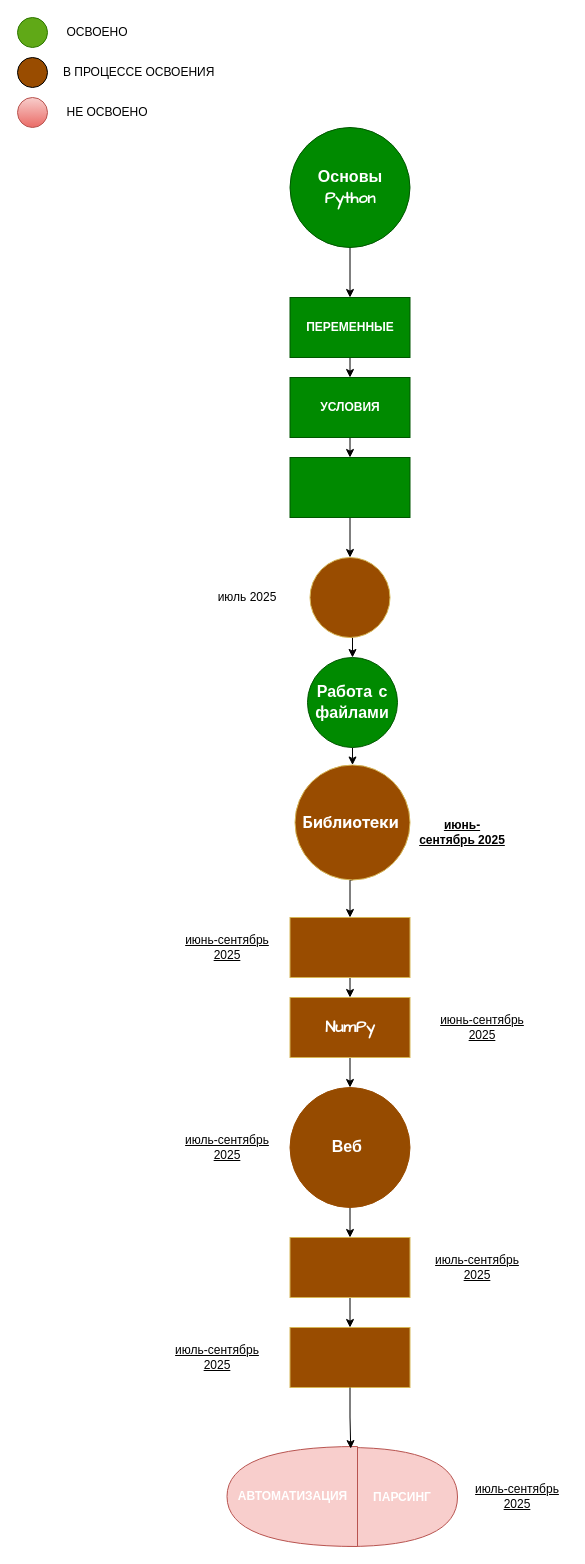
The diagram is 585 pixels wide and 1564 high, and some of its shapes have lost their labels. The centre of each missing label's shape, as x and y in pixels:
Django: [349,1267]
Flask: [349,1357]
Pandas: [349,947]
Функции и ООП: [349,597]
ЦИКЛЫ: [349,487]
